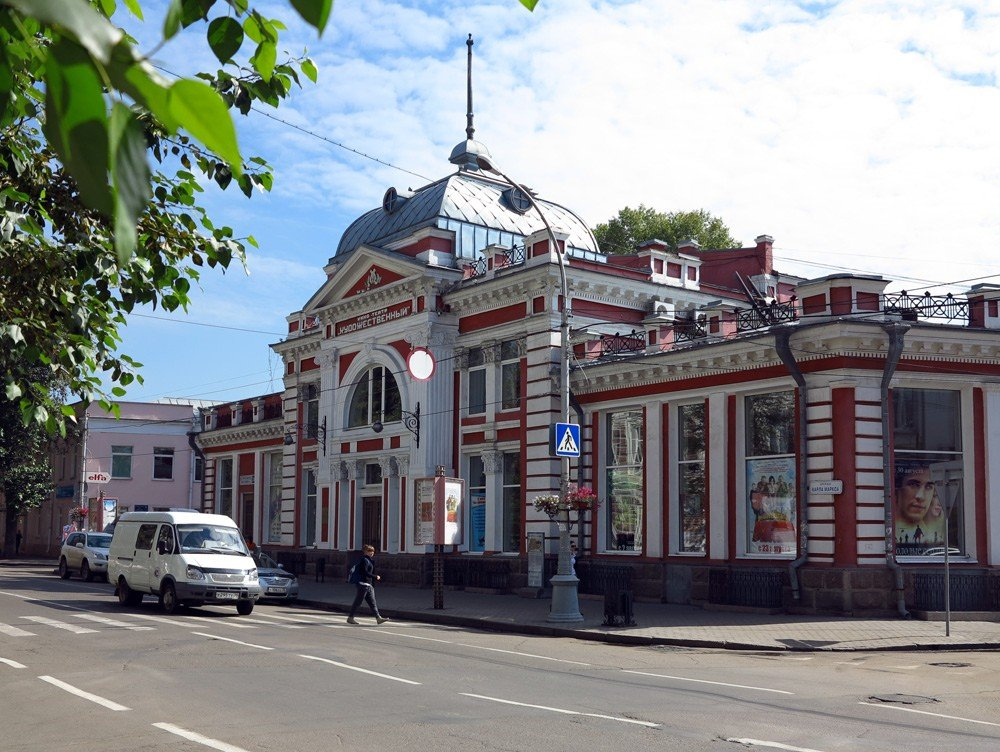sign: (548, 417, 589, 458)
